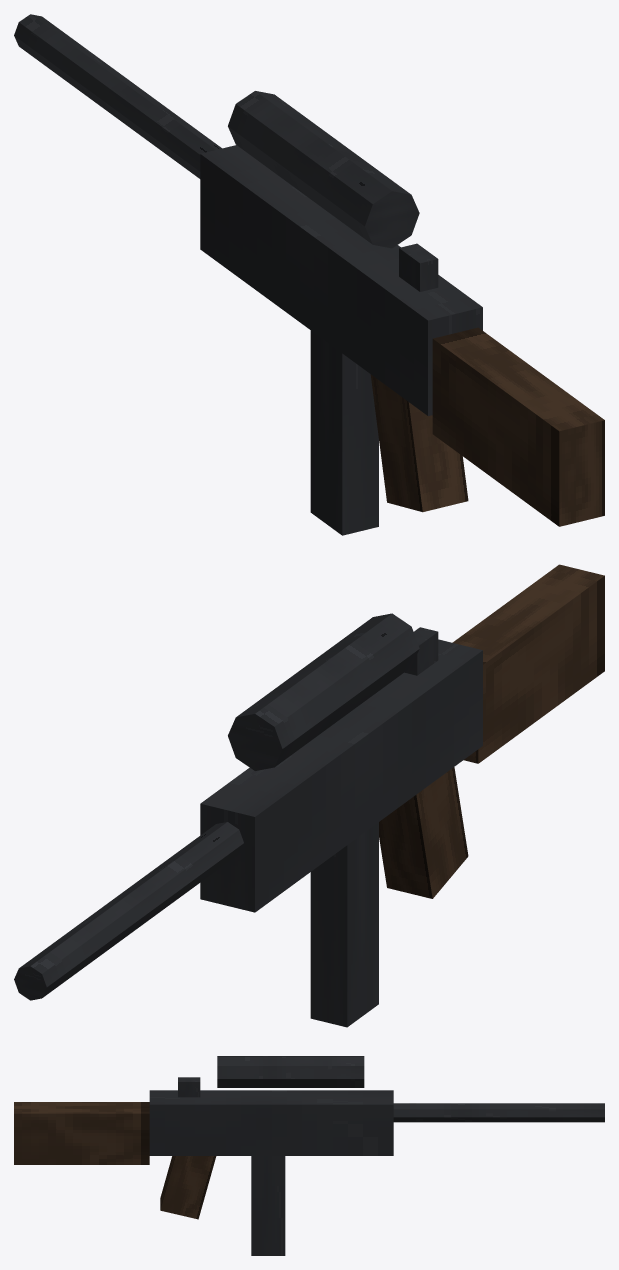
The model's file is gun_sniper.glb.
3 renders of one model, top to bottom at view 1: azimuth 30°, elevation 25°; view 2: azimuth 150°, elevation 25°; view 3: azimuth 270°, elevation 25°, orthographic. The views are drawn at different scales.
Visible parts, largest first — view 1: Gun_sniper; view 2: Gun_sniper; view 3: Gun_sniper.
Boxes of the visible parts, x1,y1,x2,y2 form: Gun_sniper: [14, 14, 604, 535]; Gun_sniper: [14, 564, 604, 1027]; Gun_sniper: [14, 1056, 604, 1255].
Size of the model in its own units: 0.06 by 0.38 by 1.05.
Materials: 2 (2 with a texture image).
